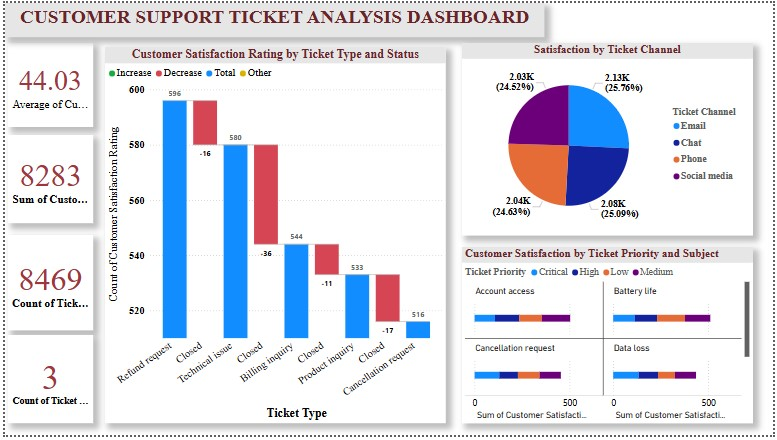

What the dashboard file says about the page in this screenshot:
{"tool":"powerbi","page":{"name":"Dashboard 1","canvas":[1280,720],"ordinal":0},"visuals":[{"type":"card","fields":{"Values":["Avg(customer_support_tickets.Customer Age)"]},"box":[4.9,66.1,142,139.5],"z":0},{"type":"textbox","box":[0,0,899,56.6],"z":1000},{"type":"card","fields":{"Values":["Sum(customer_support_tickets.Customer Satisfaction Rating)"]},"box":[4.9,220.3,142,146.8],"z":2000},{"type":"card","fields":{"Values":["CountNonNull(customer_support_tickets.Ticket ID)"]},"box":[4.9,386.7,142,159.1],"z":3000},{"type":"pieChart","title":"Satisfaction by Ticket Channel","fields":{"Category":["customer_support_tickets.Ticket Channel"],"Y":["Sum(customer_support_tickets.Customer Satisfaction Rating)"],"Series":["customer_support_tickets.Ticket Status"]},"box":[763.3,60,483.3,320],"z":4000},{"type":"waterfallChart","title":"Customer Satisfaction Rating by Ticket Type and Status","fields":{"Category":["customer_support_tickets.Ticket Type","customer_support_tickets.Ticket Priority"],"Breakdown":["customer_support_tickets.Ticket Status"],"Y":["CountNonNull(customer_support_tickets.Customer Satisfaction Rating)"]},"box":[166.4,73.4,567.8,626.5],"z":5000},{"type":"barChart","title":"Customer Satisfaction by Ticket Priority and Subject","fields":{"Y":["Sum(customer_support_tickets.Customer Satisfaction Rating)"],"Series":["customer_support_tickets.Ticket Priority"],"Rows":["customer_support_tickets.Ticket Subject"]},"box":[761.1,406.3,484.6,293.7],"z":6000},{"type":"card","fields":{"Values":["Count(customer_support_tickets.Ticket Status)"]},"box":[4.9,553.1,142,146.8],"z":7000}]}

Visuals, with their boxes in screenshot pixels (x1, y1, x2, y2), scaled from the page's 1280x720 canvas onto the 777x440 screenshot:
card - Avg(customer_support_tickets.Customer Age): 3 40 89 126
textbox: 0 0 546 35
card - Sum(customer_support_tickets.Customer Satisfaction Rating): 3 135 89 224
card - CountNonNull(customer_support_tickets.Ticket ID): 3 236 89 334
"Satisfaction by Ticket Channel" pieChart: 463 37 757 232
"Customer Satisfaction Rating by Ticket Type and Status" waterfallChart: 101 45 446 428
"Customer Satisfaction by Ticket Priority and Subject" barChart: 462 248 756 428
card - Count(customer_support_tickets.Ticket Status): 3 338 89 428
